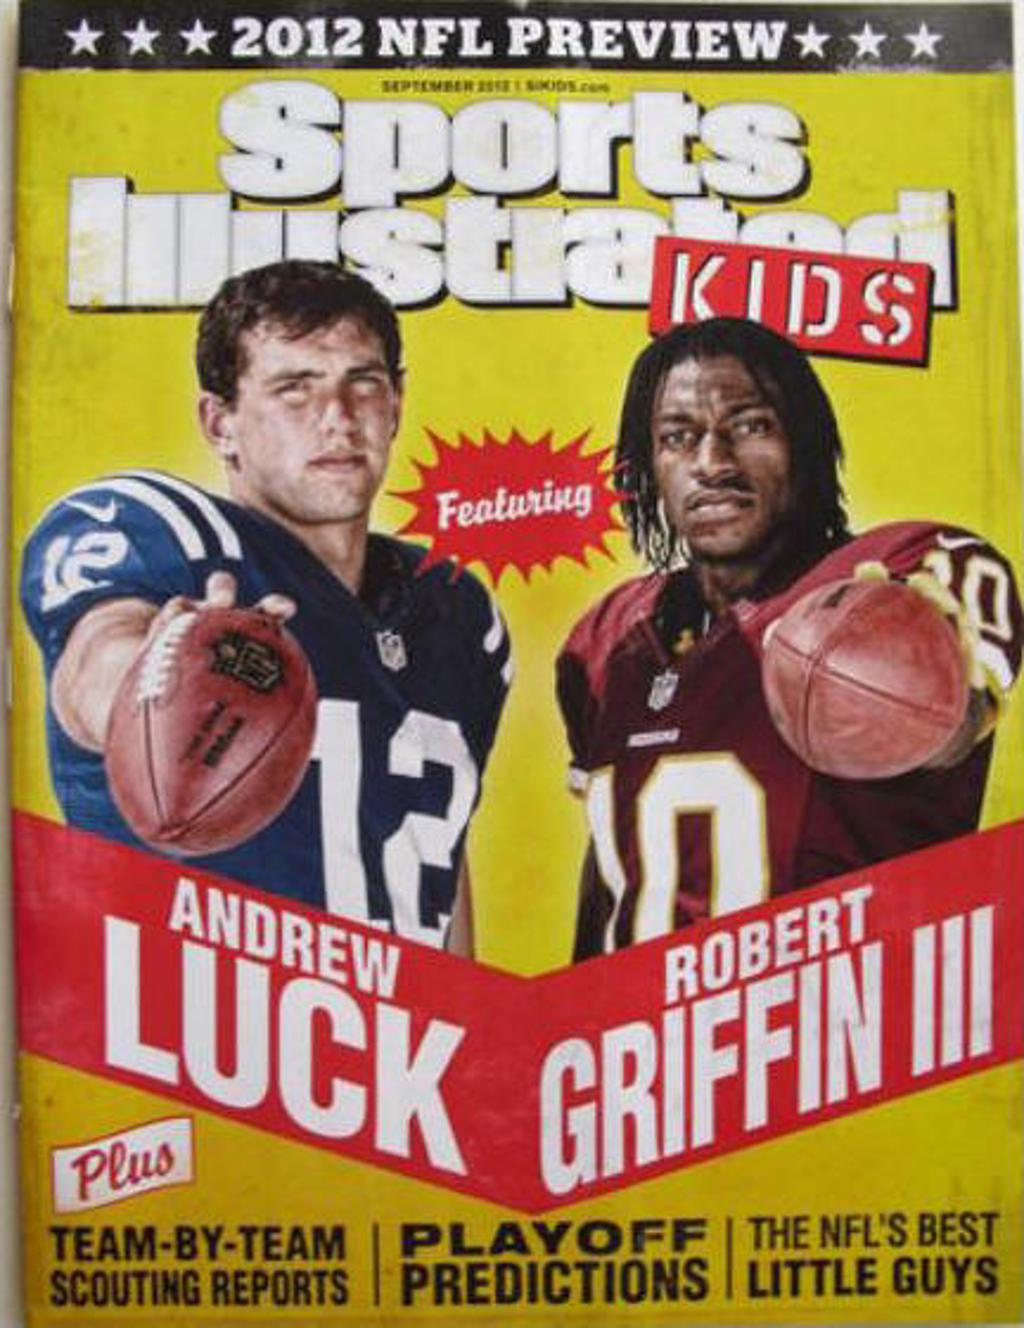face: (231, 308, 397, 521), (648, 363, 783, 552)
